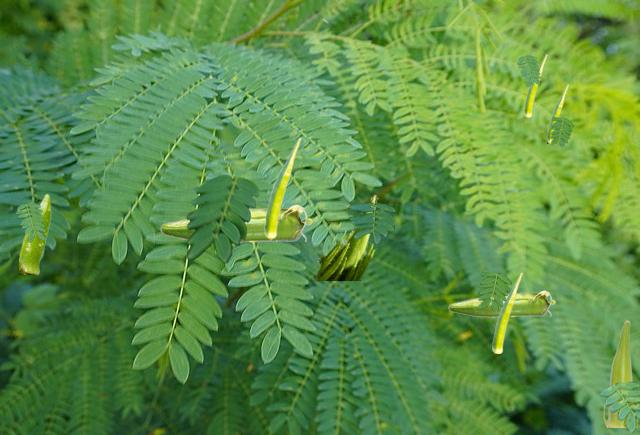okra: (160, 204, 311, 242), (314, 194, 377, 279), (602, 320, 637, 426), (264, 137, 300, 239), (448, 290, 554, 316), (19, 193, 50, 273), (492, 272, 521, 352), (524, 54, 546, 117), (547, 84, 567, 142)
